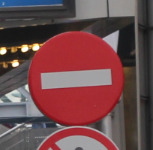no_entry: (27, 31, 125, 126)
